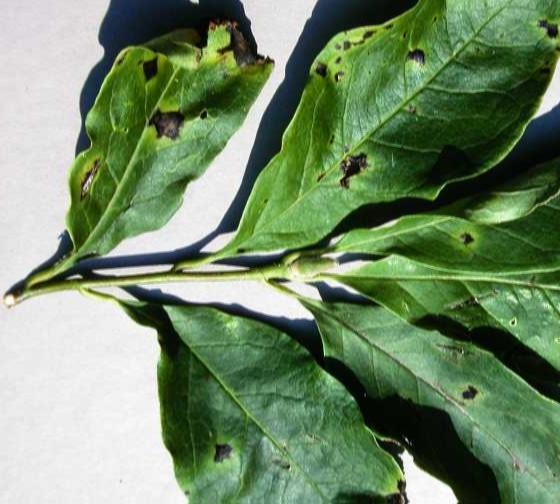Tomato leaf bacterial spot: (226, 0, 560, 268), (269, 288, 560, 504), (48, 0, 265, 263), (339, 61, 560, 272)
